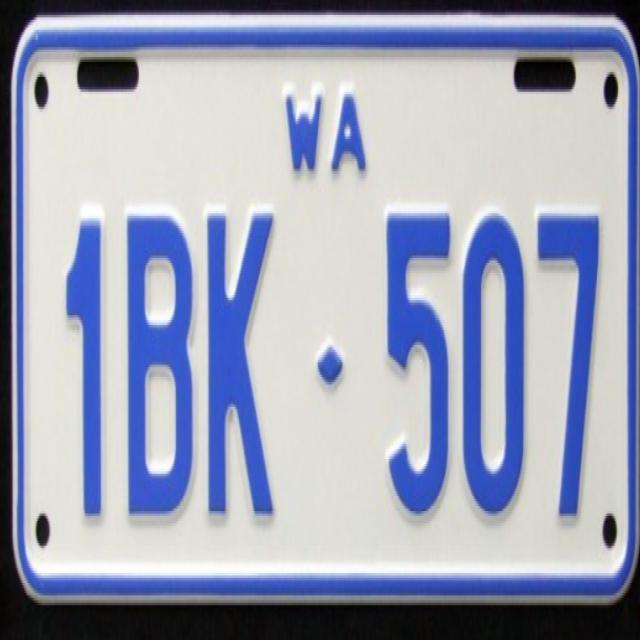0: (458, 196, 530, 527)
1: (60, 192, 109, 524)
5: (381, 186, 457, 518)
7: (533, 197, 602, 538)
B: (121, 195, 197, 538)
K: (200, 198, 282, 530)
